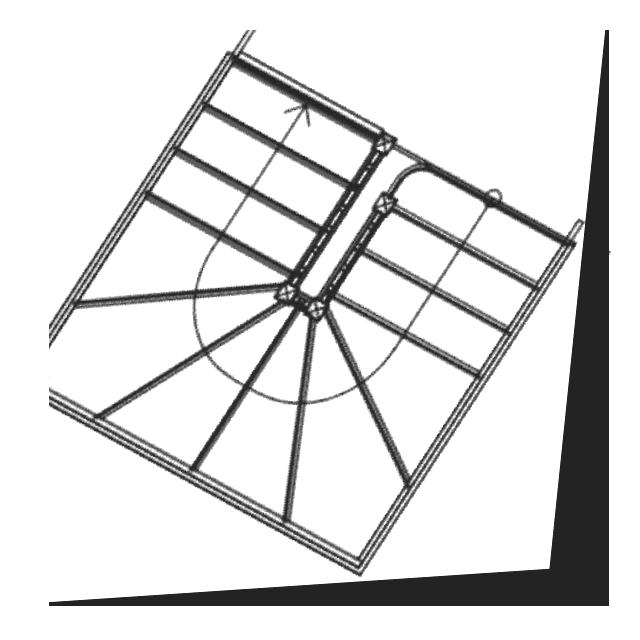stair: (49, 30, 609, 606)
